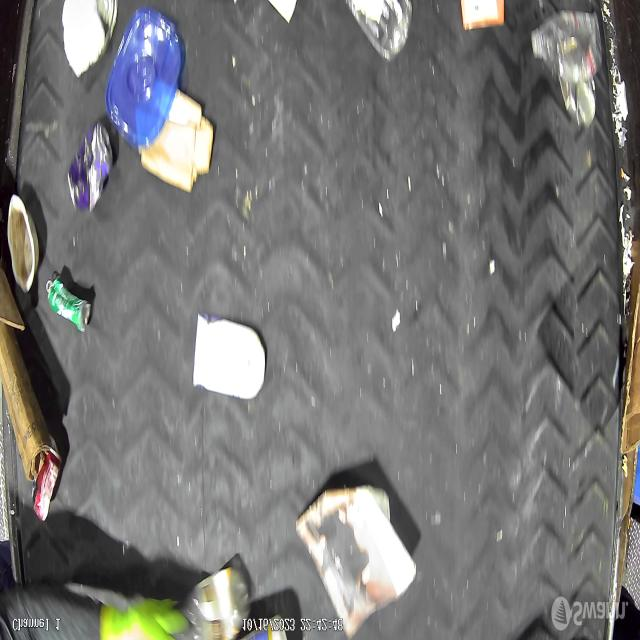can: (296, 487, 417, 638), (66, 120, 113, 215), (7, 190, 40, 292), (560, 50, 598, 128), (46, 276, 90, 332)
plastic_bottle: (532, 9, 600, 82), (346, 0, 412, 65)
